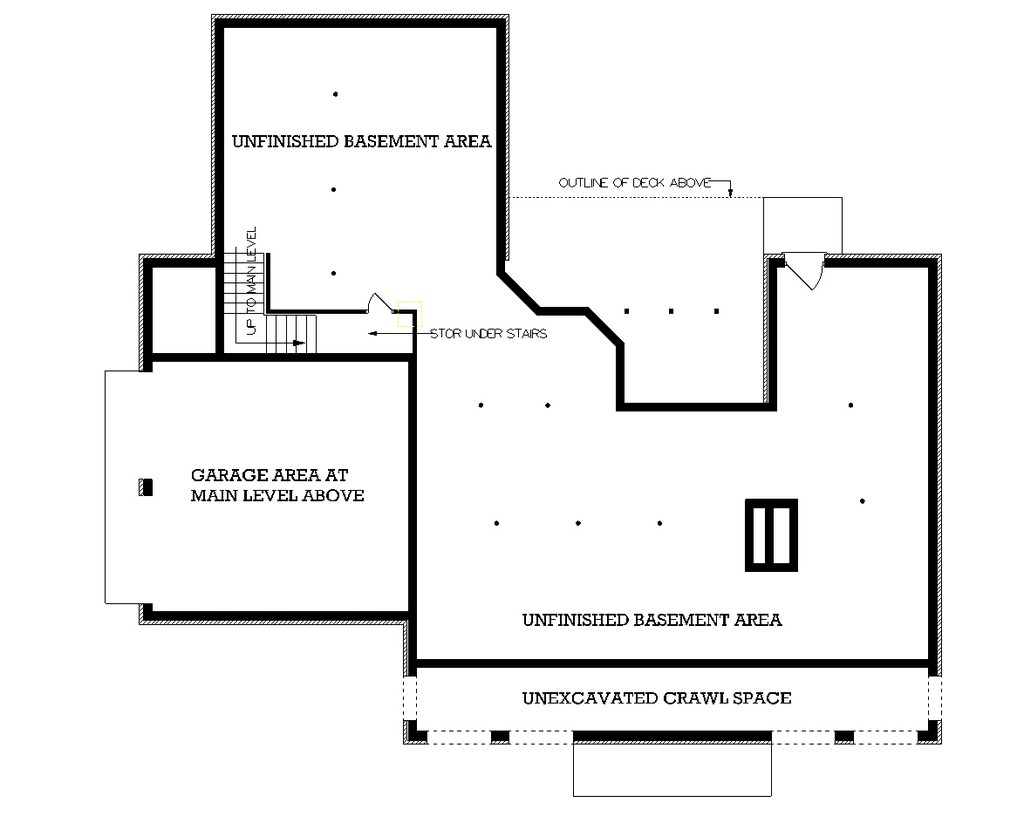door: (782, 237, 828, 294), (356, 282, 398, 324)
stairs: (221, 239, 332, 360)
window: (773, 719, 923, 753), (425, 729, 580, 748), (923, 675, 950, 723), (403, 667, 423, 723)
